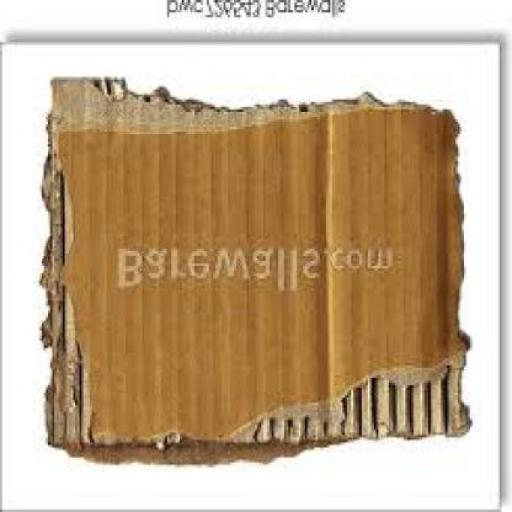cardboard: (40, 79, 470, 467)
